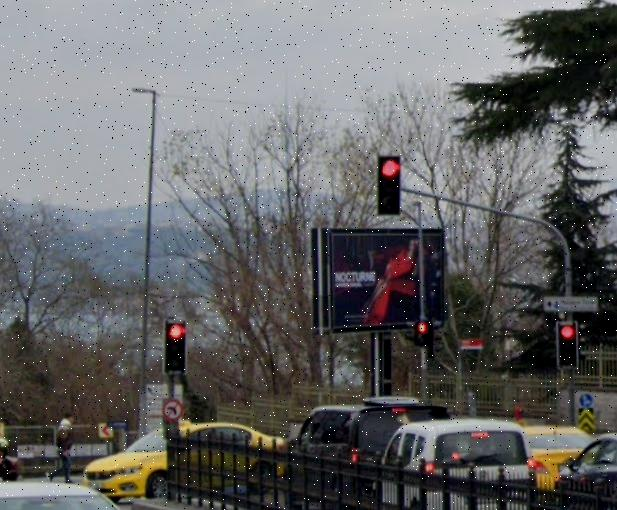redlight: (379, 157, 403, 212), (166, 320, 185, 371), (557, 322, 578, 365)
